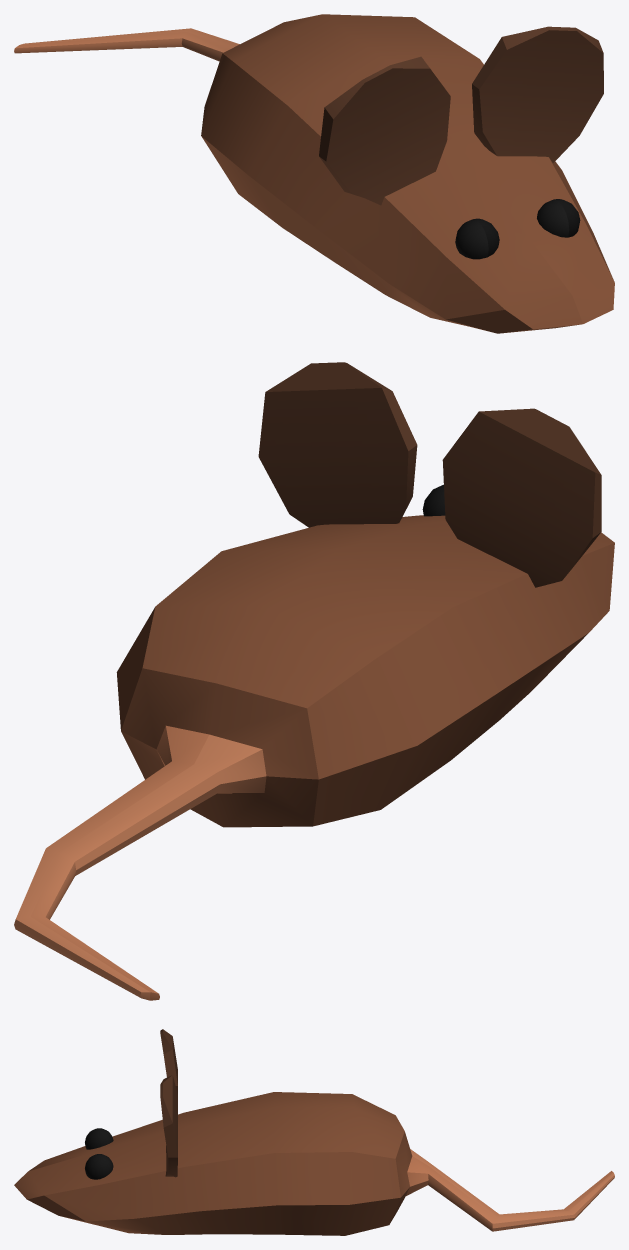
File: mouseCrowIsland.fbx
3 renders of one model, top to bottom at view 1: azimuth 30°, elevation 25°; view 2: azimuth 150°, elevation 25°; view 3: azimuth 270°, elevation 25°, orthographic. The views are drawn at different scales.
Parts seen in each view (by area): view 1: mouse; view 2: mouse; view 3: mouse.
Boxes of the visible parts, x1,y1,x2,y2 form: mouse: [14, 14, 614, 333]; mouse: [14, 362, 614, 1000]; mouse: [14, 1029, 614, 1235].
Bounding box in the file's own units: 93.01 × 80.84 × 267.
